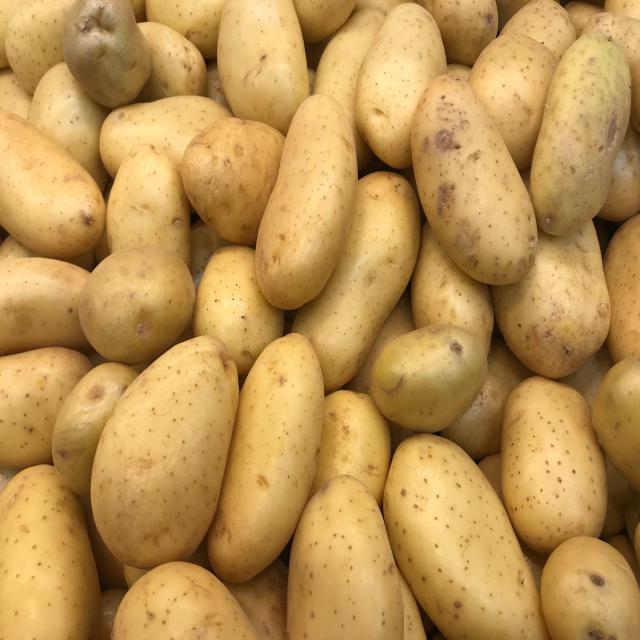papa: (248, 94, 368, 315)
